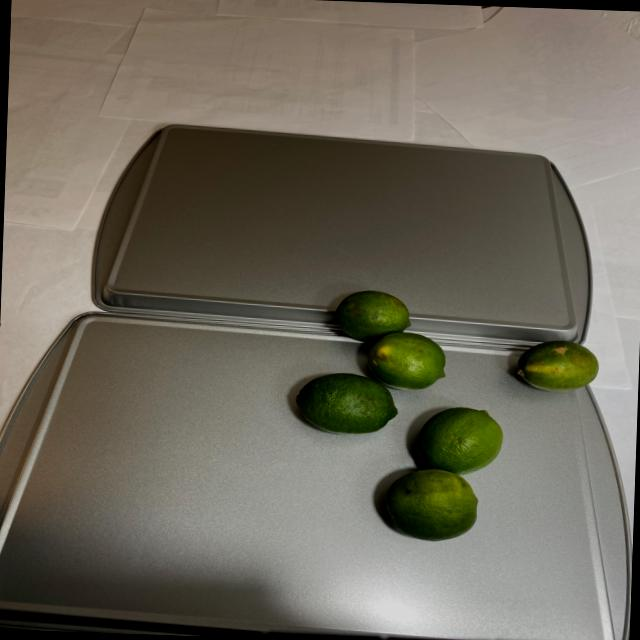lemon: (278, 283, 504, 537), (516, 341, 601, 393)
